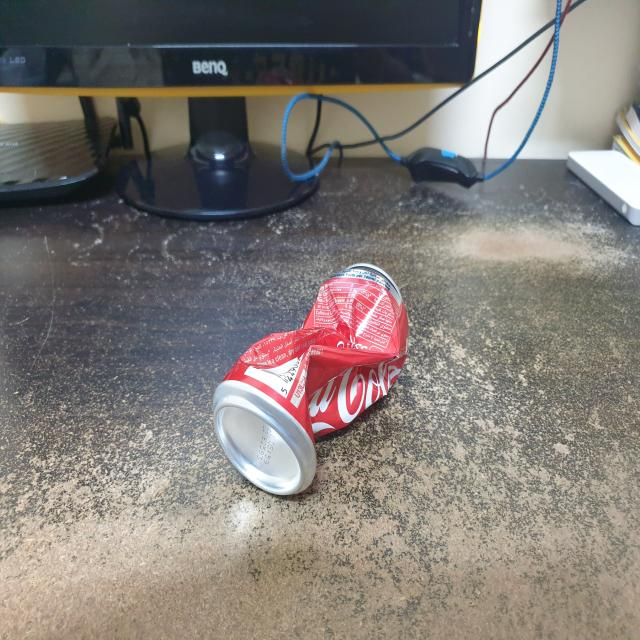non-organic waste: (200, 247, 422, 506)
